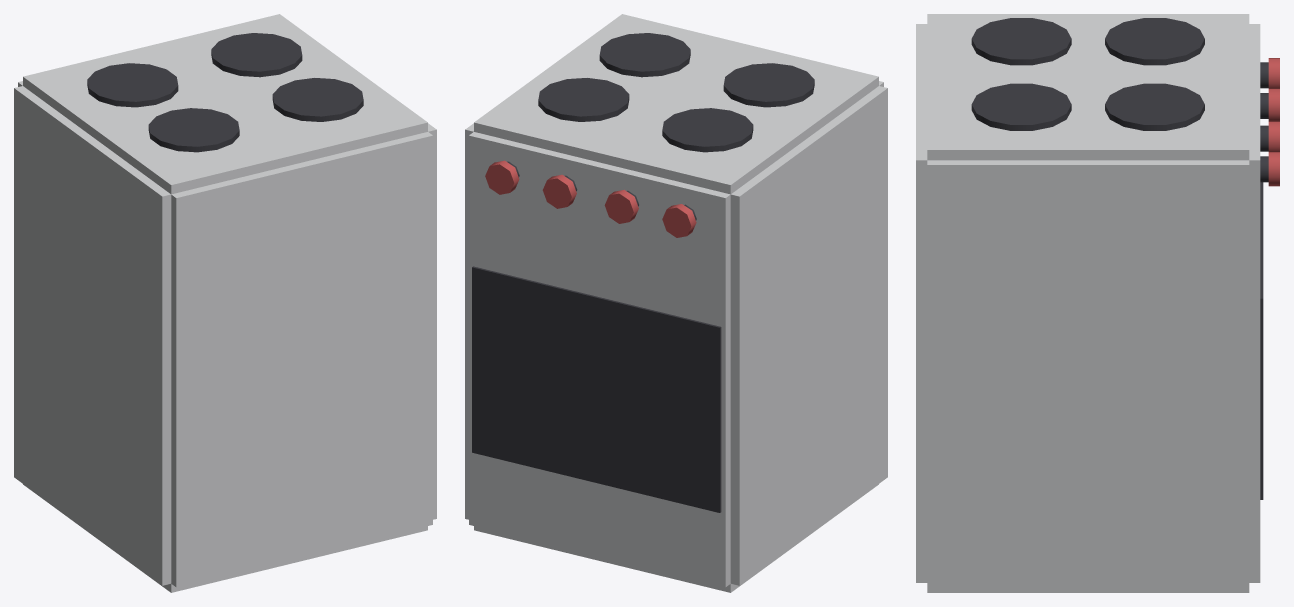
File: stove_oven.glb
The picture shows the model from 3 angles, left to right: view 1: azimuth 30°, elevation 25°; view 2: azimuth 150°, elevation 25°; view 3: azimuth 270°, elevation 25°; orthographic projection. The views are drawn at different scales.
Parts seen in each view (by area): view 1: stove_oven; view 2: stove_oven; view 3: stove_oven.
Part boxes in pixels (x1,y1,x2,y2): stove_oven: [14, 14, 436, 592]; stove_oven: [465, 14, 887, 592]; stove_oven: [916, 14, 1279, 592].
Bounding box in the file's own units: 0.62 × 0.901 × 0.655.
